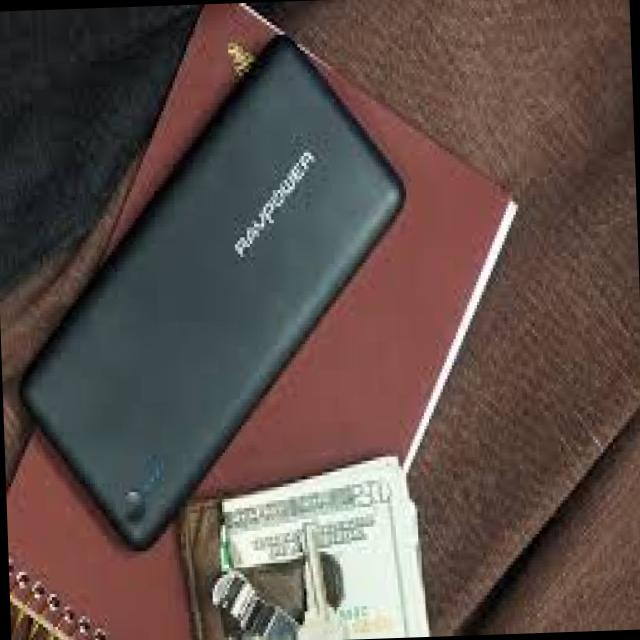power_bank: (0, 33, 417, 563)
